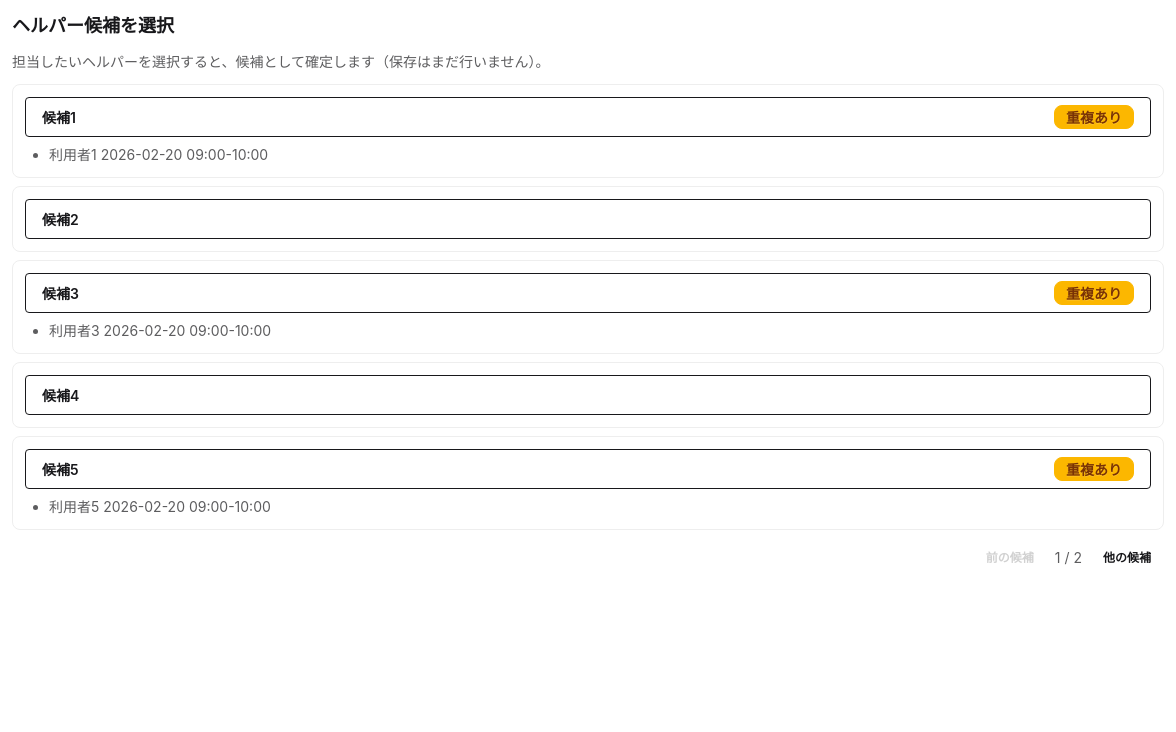
StepHelperCandidates › 候補を取得して1ページ5件表示し、ページングできる
Expected: the button "候補1 重複あり" is shown, x1=25 y1=97 x2=1151 y2=137
Expected: the button "候補5 重複あり" is shown, x1=25 y1=449 x2=1151 y2=489
Step 1. Click the button "他の候補" → (1127, 558), box x1=1090 y1=542 x2=1164 y2=574
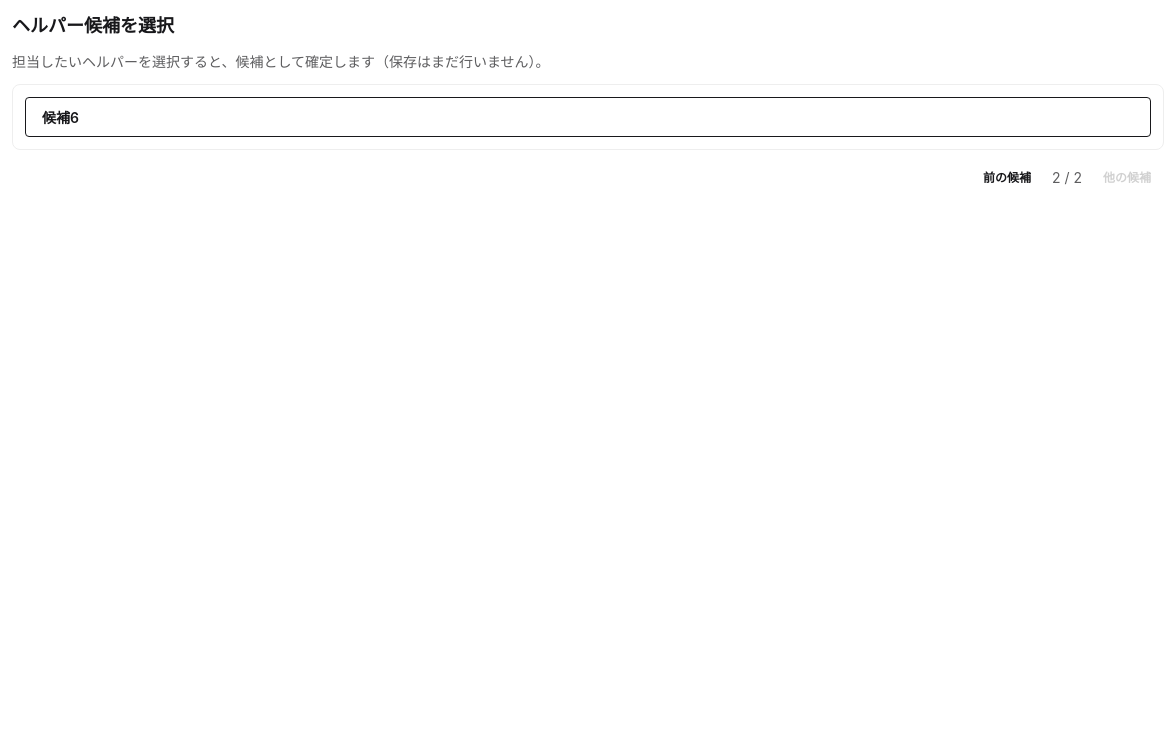
Expected: the button "候補6" is shown, x1=25 y1=97 x2=1151 y2=137
Expected: the button "候補1" is gone
